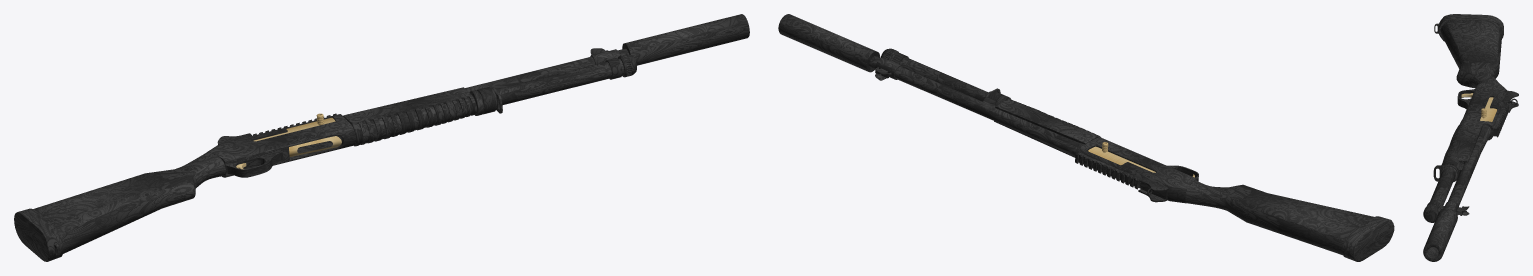
The model's file is SuppressedShotgun_World.dae.
3 renders of one model, left to right at view 1: azimuth 30°, elevation 25°; view 2: azimuth 150°, elevation 25°; view 3: azimuth 270°, elevation 25°, orthographic. The views are drawn at different scales.
Visible parts, largest first — view 1: Gun; view 2: Gun, Bolt; view 3: Gun, Bolt.
Part boxes in pixels (x1,y1,x2,y2): Gun: (14, 14, 749, 261); Gun: (778, 14, 1394, 261); Bolt: (1088, 142, 1155, 172); Gun: (1423, 14, 1518, 261); Bolt: (1480, 97, 1496, 121).
Size of the model in its own units: 1.72 by 0.2525 by 0.2054.
Materials: 2 (2 with a texture image).
